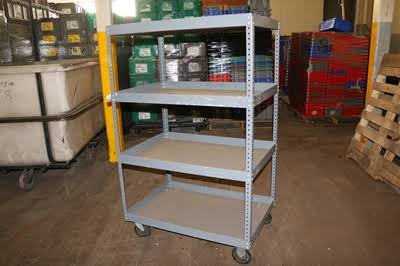Carts: (105, 13, 280, 263)
